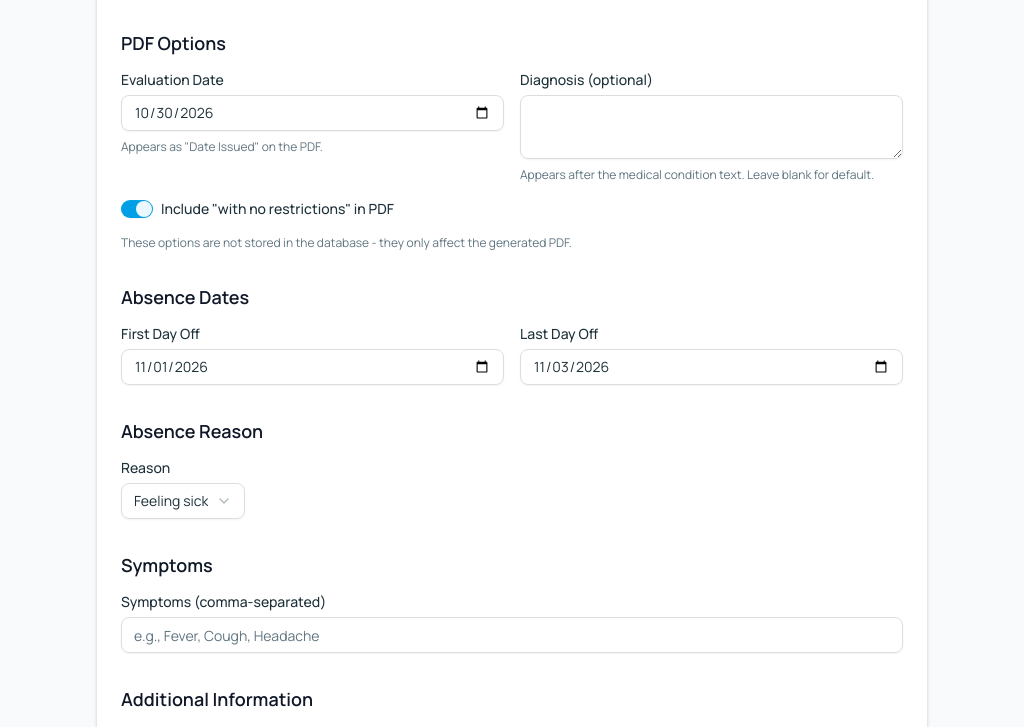
Scenario: SubmissionEditForm dates › refuses to save a cleared day instead of sending an invalid Date
The image size is (1024, 727).
(page scrolled)
Clear the date field with id "firstDayOff". click: (312, 367)
box: x1=121 y1=349 x2=504 y2=385
(page scrolled)
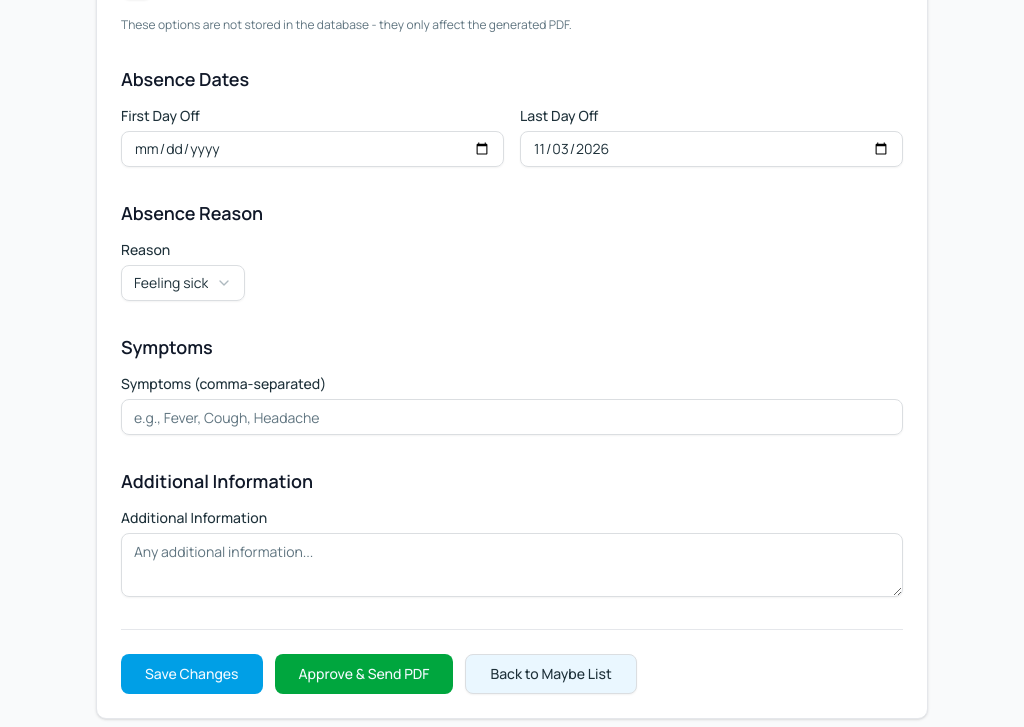
Click the button "Save Changes". click: (192, 674)
box: x1=121 y1=654 x2=262 y2=694
(page scrolled)
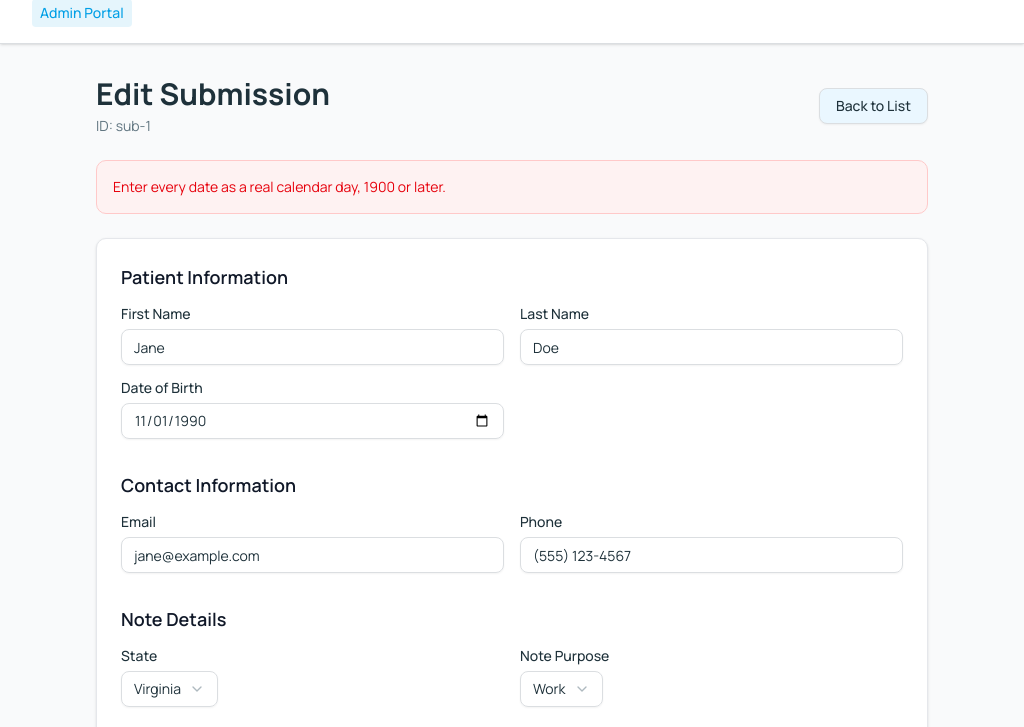
Now the text "Enter every date as a real calendar day, 1900 or later." is shown, box x1=113 y1=177 x2=446 y2=196
